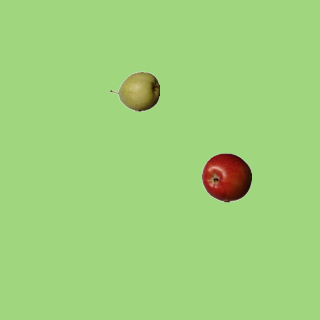Apple Braeburn: (201, 152, 251, 202)
Pear: (109, 66, 159, 116)
